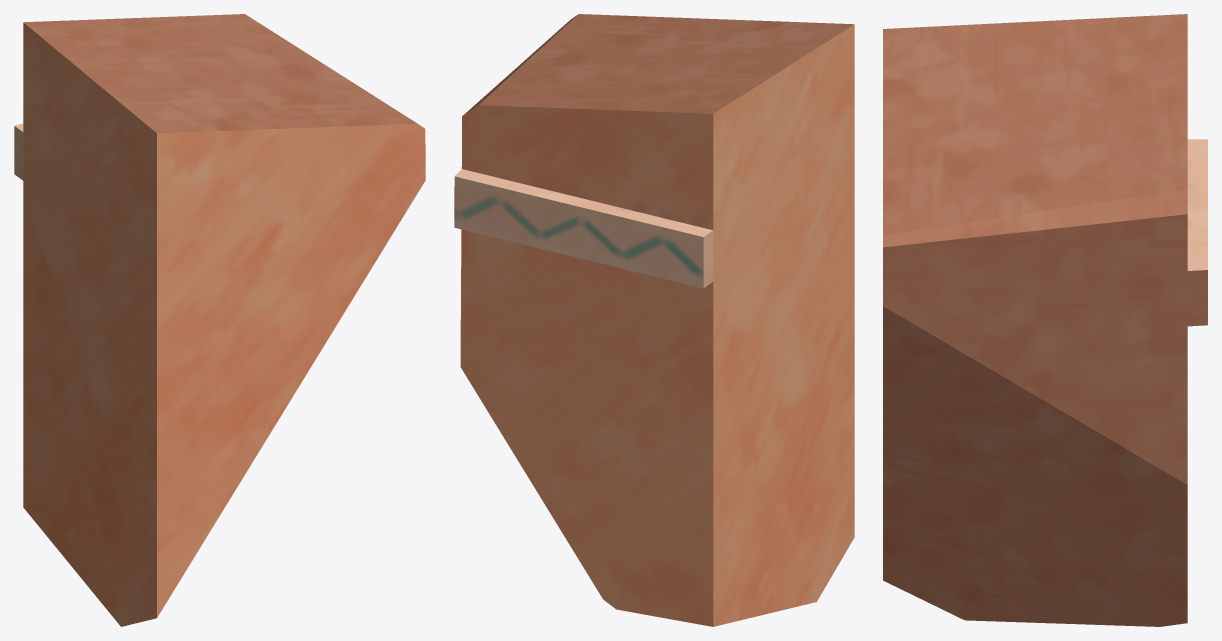
Rendered from townwall_s10.fbx.
3 renders of one model, left to right at view 1: azimuth 30°, elevation 25°; view 2: azimuth 150°, elevation 25°; view 3: azimuth 270°, elevation 25°, orthographic. The views are drawn at different scales.
Parts seen in each view (by area): view 1: townwall_s10; view 2: townwall_s10; view 3: townwall_s10.
Boxes of the visible parts, <box> form: townwall_s10: <box>14,14,425,626</box>; townwall_s10: <box>454,14,854,626</box>; townwall_s10: <box>883,14,1207,626</box>.
Size of the model in its own units: 3.48 by 6.59 by 3.2.
